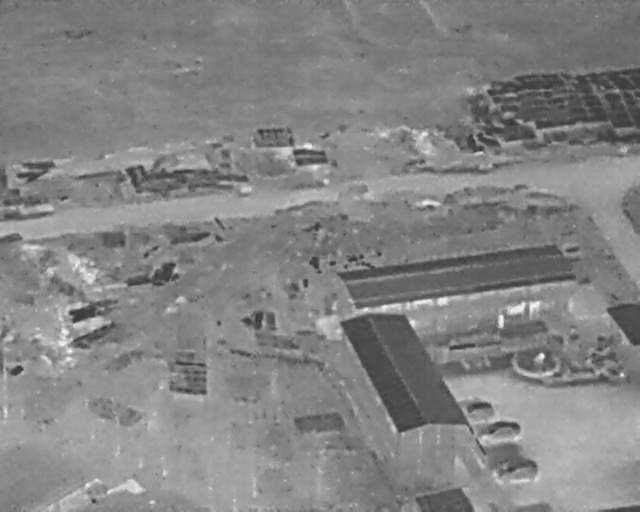Car: (492, 454, 539, 485), (476, 416, 522, 443), (459, 398, 493, 419)
Person: (497, 312, 506, 330)
